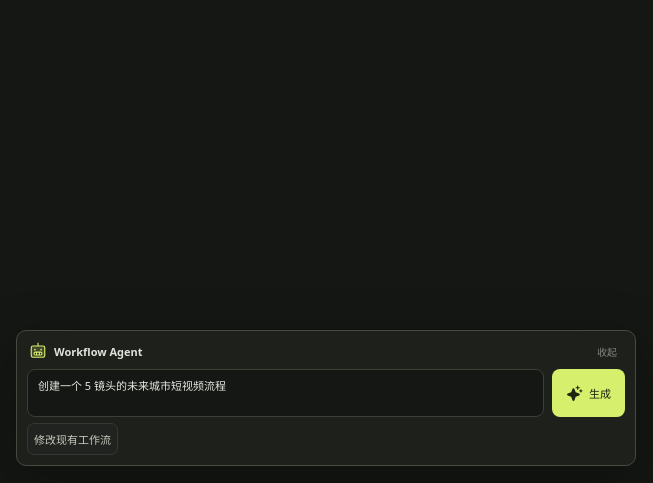
it: AgentComposer › shows success banner with undo and run buttons after apply
The image size is (653, 483).
Generate + Apply
Click the button "生成".
click(588, 393)  # box x1=552 y1=369 x2=625 y2=417
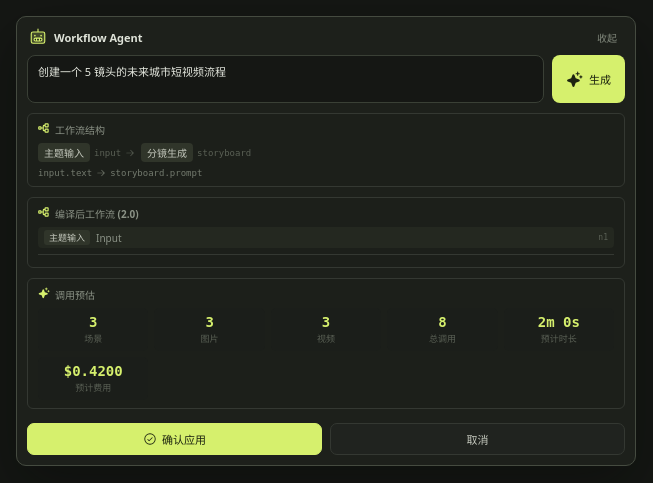
Expected: the button "确认应用" is shown
Click the button "确认应用".
click(174, 439)  # box x1=27 y1=423 x2=322 y2=455
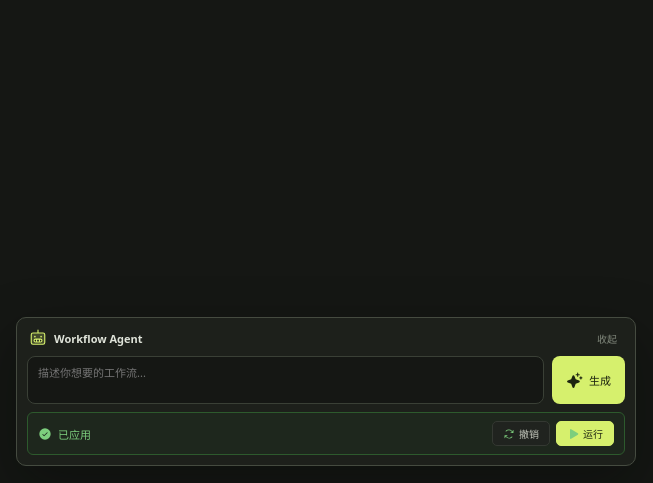
Expected: the text "已应用" is shown, x1=58 y1=426 x2=91 y2=442
Expected: the button "撤销" is shown, x1=492 y1=421 x2=550 y2=446
Expected: the button "运行" is shown, x1=556 y1=421 x2=614 y2=446
